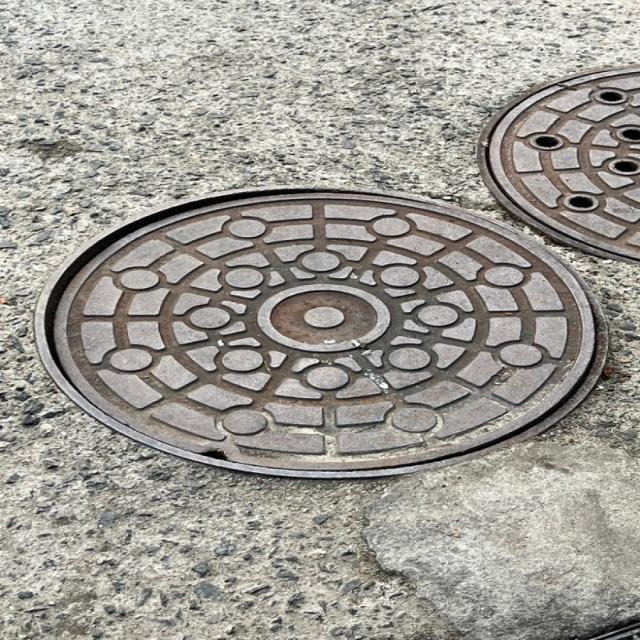manhole: (36, 189, 608, 478), (479, 65, 640, 261)
